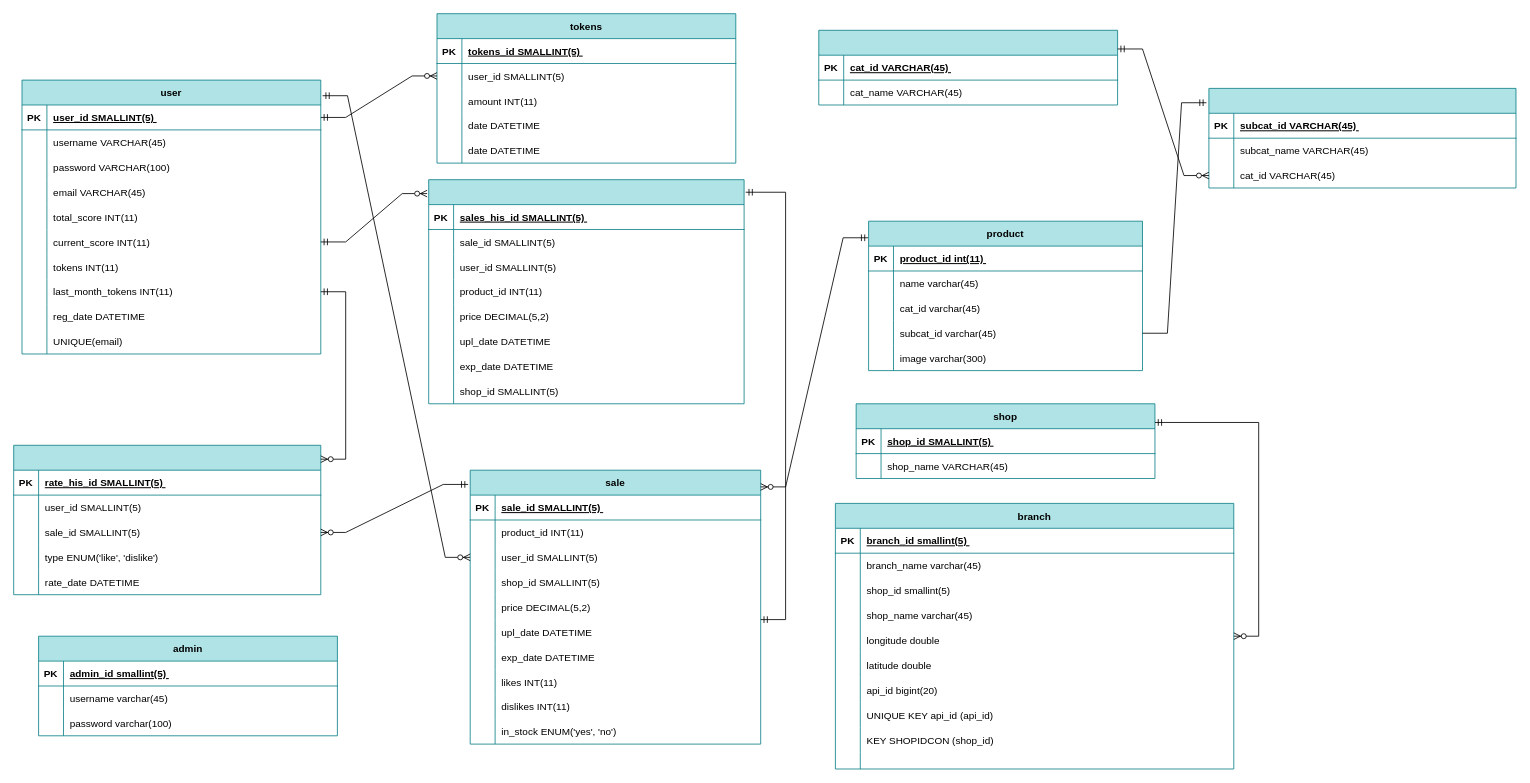
Image size: 1530x783. Some labels were removed from this diagram. The shapes that lost their labels are listed below. From the top down, each one's box as (x1, y1, x2, y2) in pixels, then its label:
(818, 29, 1118, 105): category
(1208, 88, 1516, 188): subcategory
(428, 179, 744, 404): sales_history
(13, 444, 321, 595): rating_history
